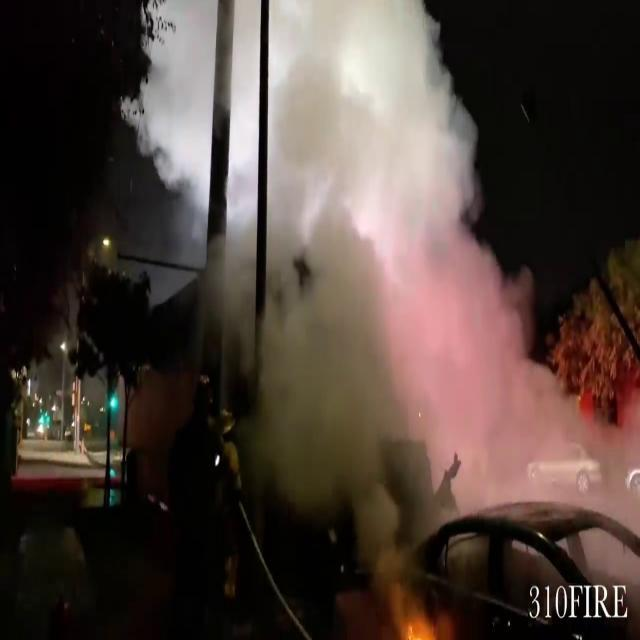Smoke: (264, 1, 544, 524)
